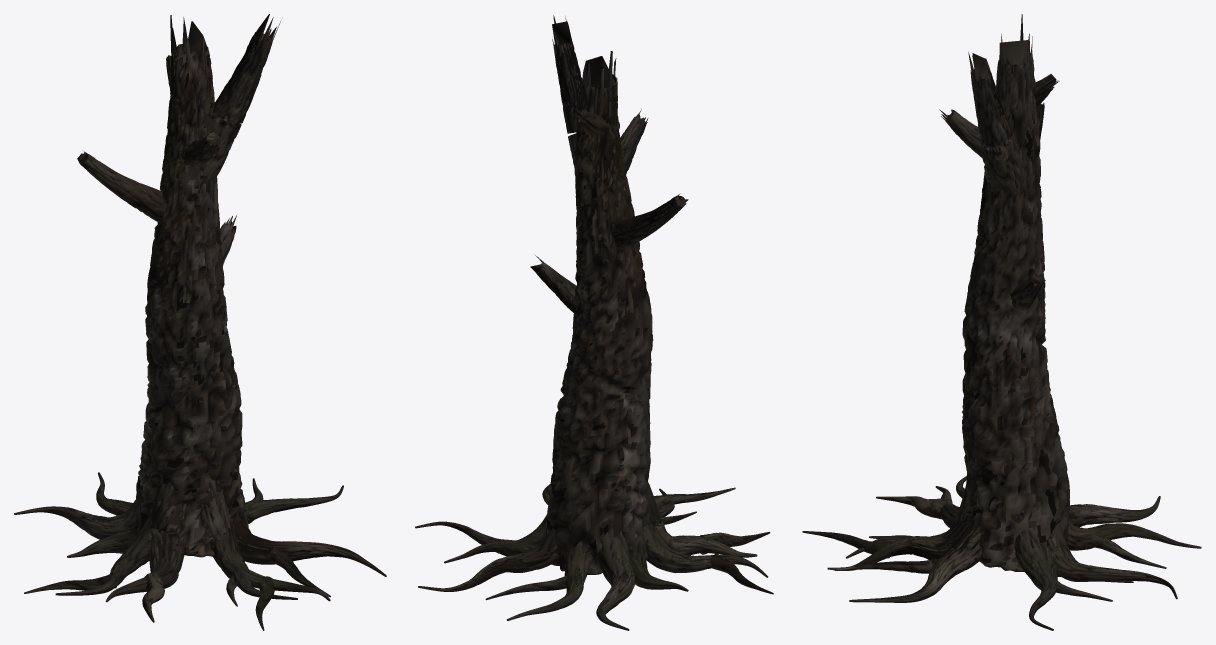
The model's file is dead-snag-photo.glb.
The picture shows the model from 3 angles, left to right: view 1: azimuth 30°, elevation 25°; view 2: azimuth 150°, elevation 25°; view 3: azimuth 270°, elevation 25°; orthographic projection. The views are drawn at different scales.
Visible parts, largest first — view 1: Dead snag | broken trunk, splintered top, limb stubs; view 2: Dead snag | broken trunk, splintered top, limb stubs; view 3: Dead snag | broken trunk, splintered top, limb stubs.
Part boxes in pixels (x1,y1,x2,y2): Dead snag | broken trunk, splintered top, limb stubs: (14, 14, 386, 630); Dead snag | broken trunk, splintered top, limb stubs: (415, 15, 773, 630); Dead snag | broken trunk, splintered top, limb stubs: (802, 14, 1201, 630).
Size of the model in its own units: 4.06 by 6.08 by 4.09.
Materials: 1 (1 with a texture image).
